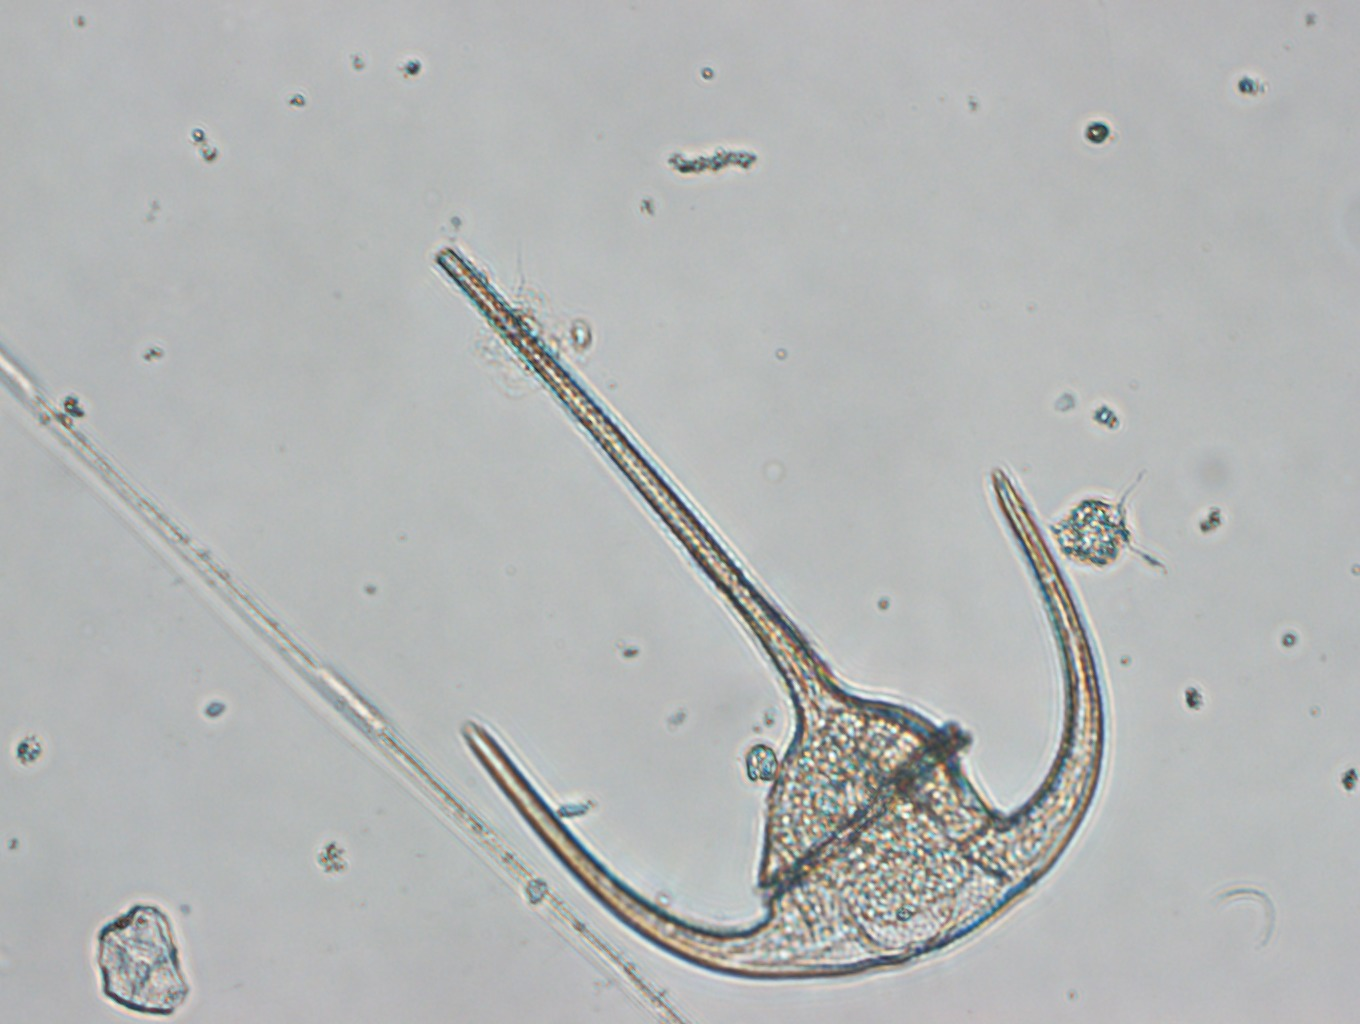ceratium tripos: (429, 244, 1108, 982)
